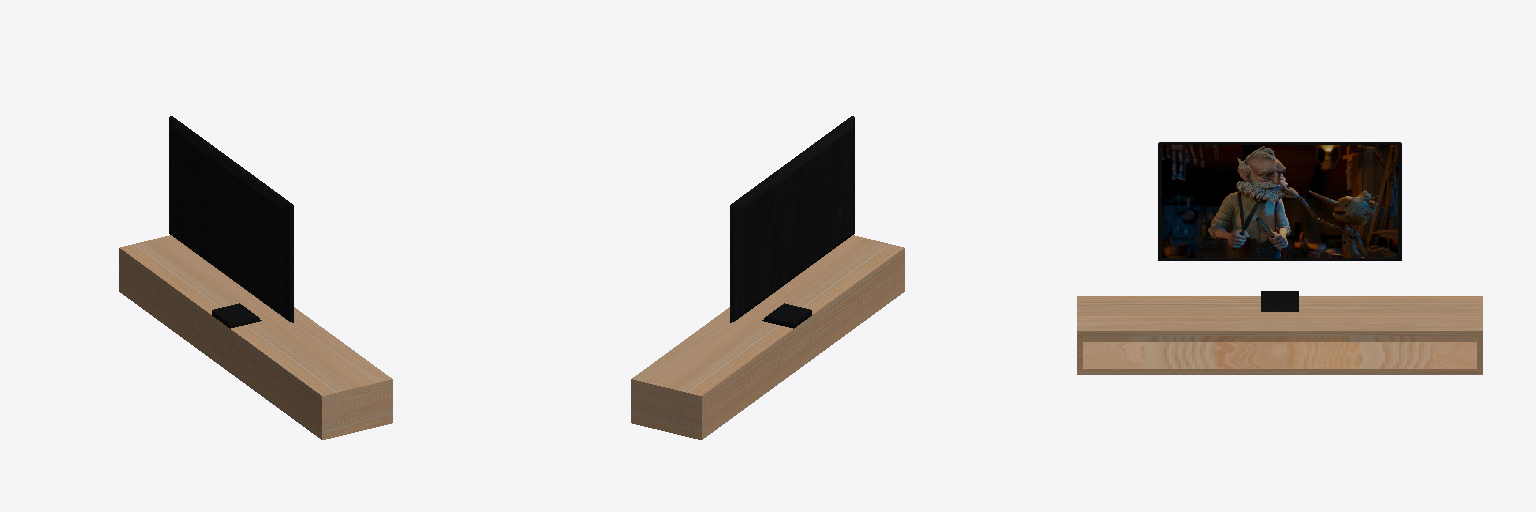
The picture shows the model from 3 angles: view 1: azimuth 30°, elevation 25°; view 2: azimuth 150°, elevation 25°; view 3: azimuth 270°, elevation 25°; orthographic projection.
Parts seen in each view (by area): view 1: Cube.011_Cube.151, TV_Cube.152, PS_Cube; view 2: Cube.011_Cube.151, TV_Cube.152, PS_Cube; view 3: Cube.011_Cube.151, TV_Cube.152, PS_Cube.
Part boxes in pixels (x1,y1,x2,y2): Cube.011_Cube.151: (119,235,392,439); TV_Cube.152: (169,116,293,322); PS_Cube: (212,303,261,328); Cube.011_Cube.151: (631,235,904,439); TV_Cube.152: (730,116,854,322); PS_Cube: (762,303,811,328); Cube.011_Cube.151: (1077,296,1482,374); TV_Cube.152: (1158,142,1401,260); PS_Cube: (1261,291,1298,311).
Bounding box in the file's own units: 0.5 × 1.38 × 2.5.
3 materials, 3 textured.